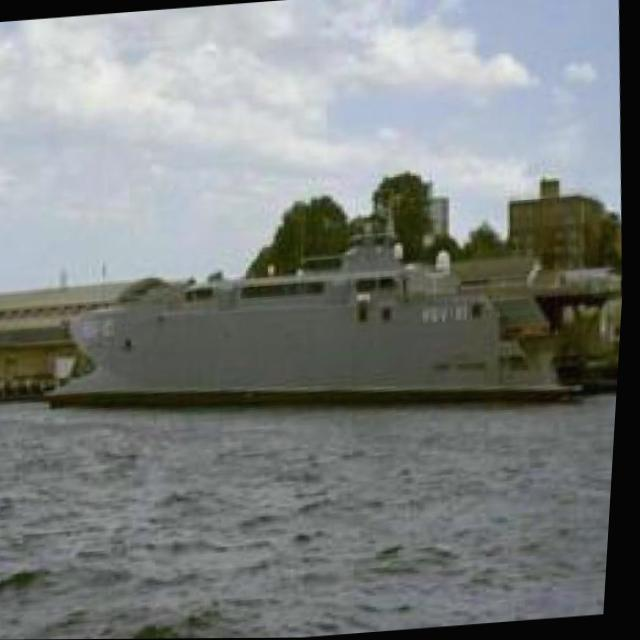ship2: (49, 217, 581, 409)
